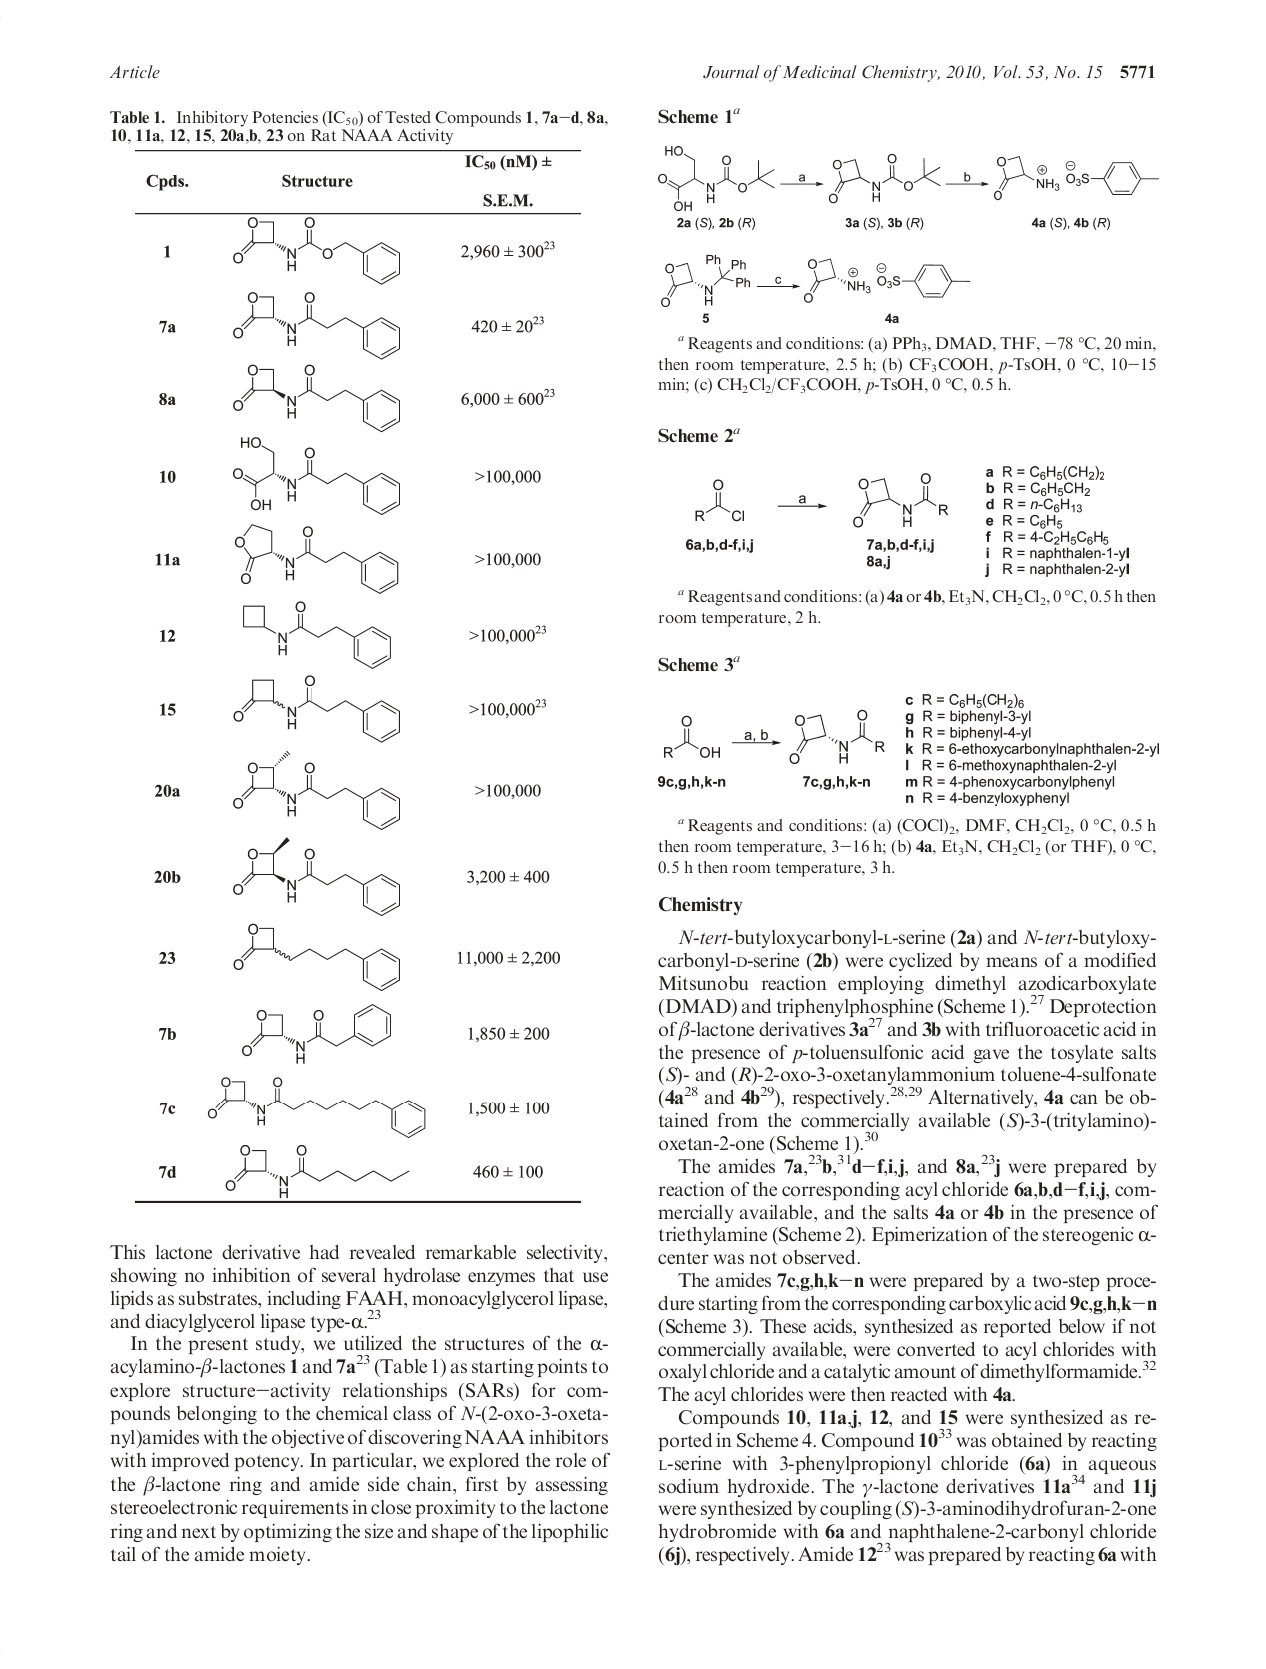exist_molecular: (233, 434, 402, 519), (233, 750, 402, 833), (206, 1076, 427, 1138), (231, 836, 402, 916), (233, 360, 402, 434), (231, 215, 402, 287), (234, 521, 400, 594), (231, 673, 402, 743), (233, 922, 403, 992), (231, 291, 403, 360), (241, 600, 394, 672), (225, 1144, 411, 1200), (242, 1001, 392, 1064), (657, 144, 777, 211), (992, 154, 1162, 201), (802, 257, 972, 303), (828, 152, 942, 203), (852, 472, 949, 531), (789, 709, 884, 765), (660, 253, 753, 309), (662, 714, 722, 758), (692, 477, 745, 525)
